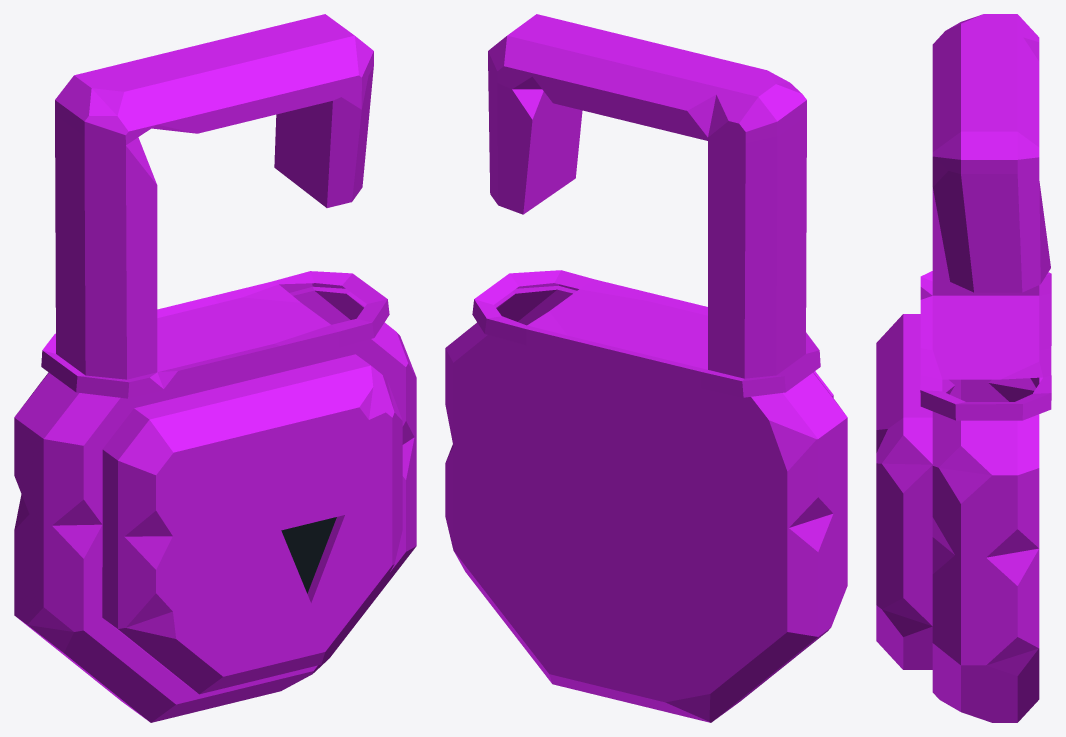
Rendered from lock_unlocked_pink.glb.
3 views of the same model, side by side, from view 1: azimuth 30°, elevation 25°; view 2: azimuth 150°, elevation 25°; view 3: azimuth 270°, elevation 25° (orthographic). The views are drawn at different scales.
Visible parts, largest first — view 1: Circle.015; view 2: Circle.015; view 3: Circle.015.
Boxes of the visible parts, box(x1,y1,x2,y2) form: Circle.015: box(14, 14, 416, 722); Circle.015: box(445, 14, 847, 722); Circle.015: box(876, 14, 1051, 722).
Bounding box in the file's own units: 2 × 3.27 × 0.8475.
Materials: 1 (1 with a texture image).
